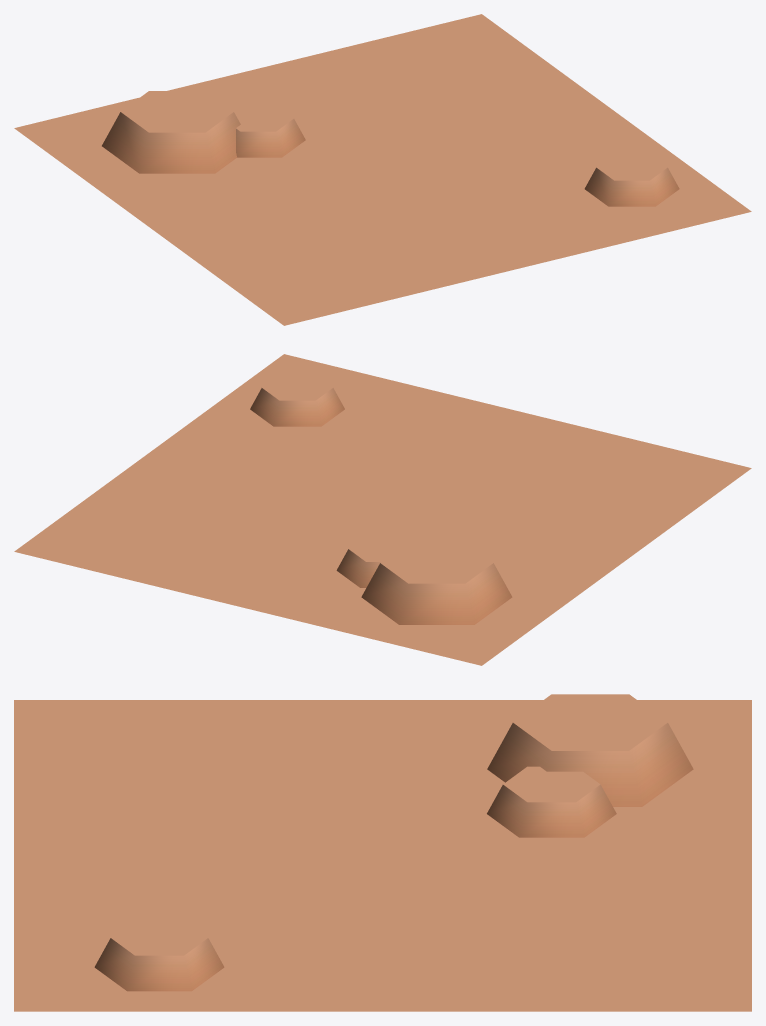
The model's file is kenney-mini-arena-floor-detail.glb.
3 views of the same model, one above another, from view 1: azimuth 30°, elevation 25°; view 2: azimuth 150°, elevation 25°; view 3: azimuth 270°, elevation 25° (orthographic). The views are drawn at different scales.
Parts seen in each view (by area): view 1: floor-detail; view 2: floor-detail; view 3: floor-detail.
Part boxes in pixels (x1,y1,x2,y2): floor-detail: [14, 14, 751, 325]; floor-detail: [14, 354, 751, 665]; floor-detail: [14, 694, 751, 1011].
Size of the model in its own units: 1 by 0.0699 by 1.
1 material, 1 textured.
